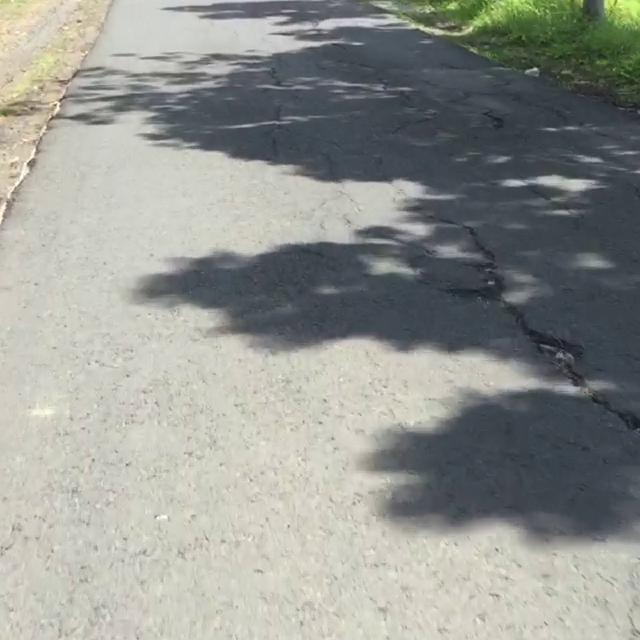retak_memanjang: (441, 234, 640, 640)
